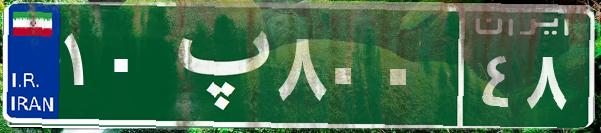0: (385, 28, 445, 110), (330, 28, 385, 110), (110, 28, 158, 105)
1: (57, 26, 110, 107)
4: (475, 38, 525, 113)
8: (273, 28, 330, 110), (525, 38, 570, 115)
پ: (158, 15, 273, 115)
